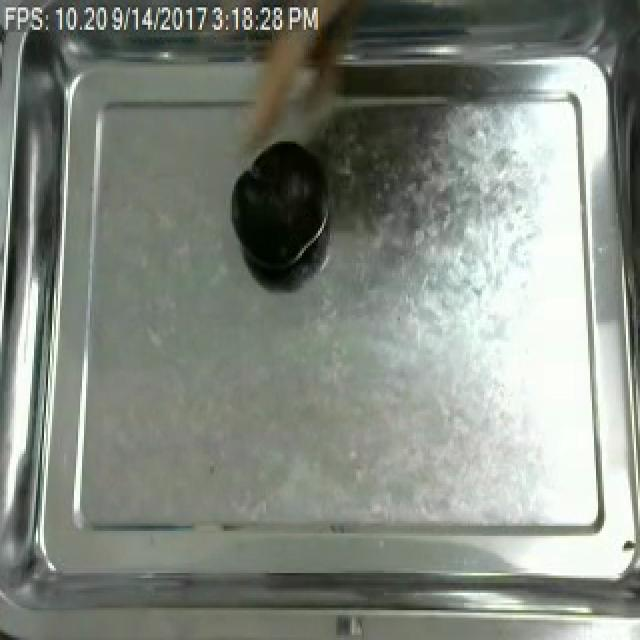Fruit: (226, 137, 328, 276)
